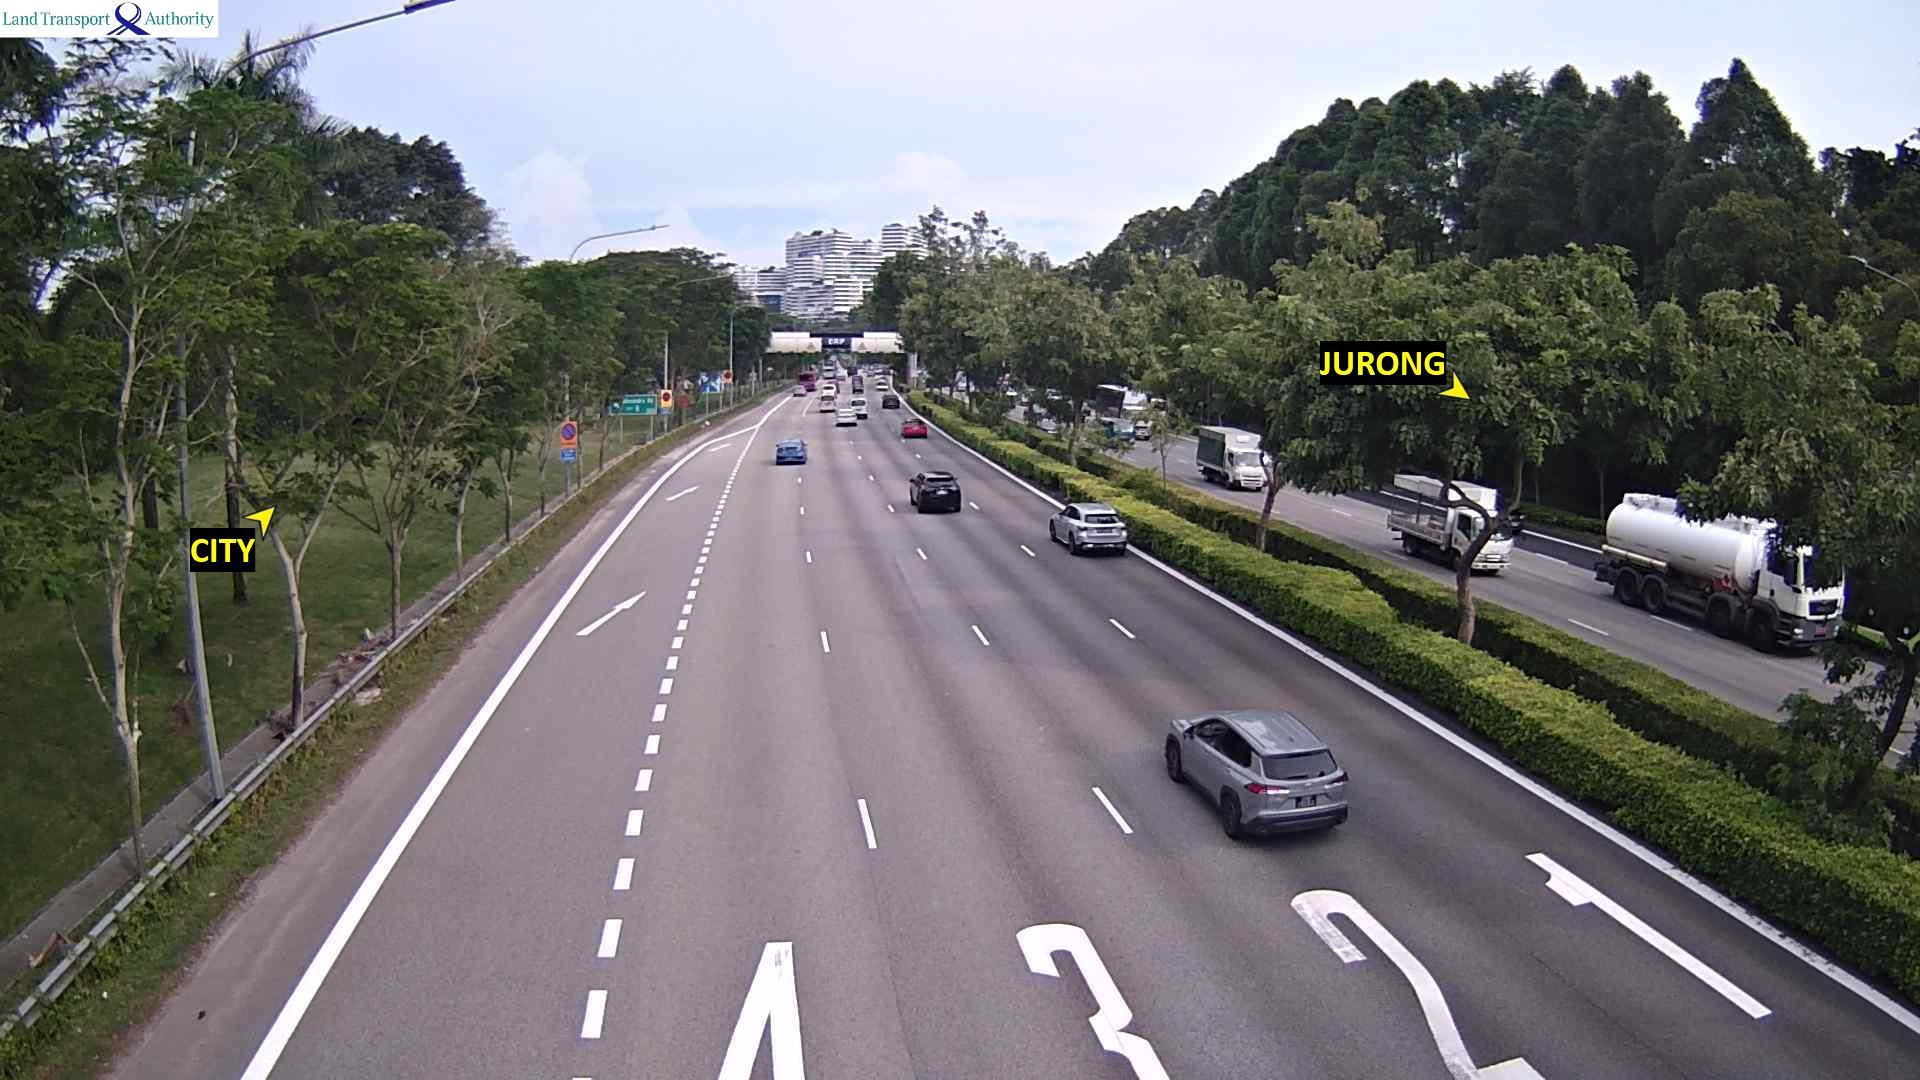incoming: (1763, 542, 1853, 662), (1458, 512, 1528, 579), (1225, 444, 1274, 493)
